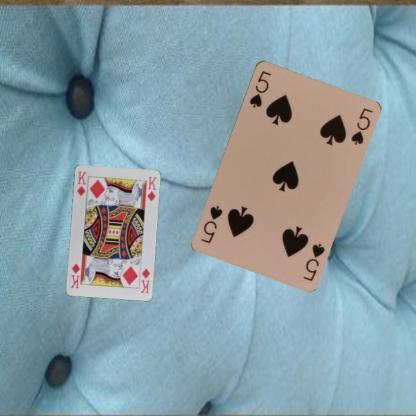5s: (300, 240, 326, 283), (246, 68, 272, 108)
Kd: (74, 168, 88, 198), (138, 266, 150, 295)
